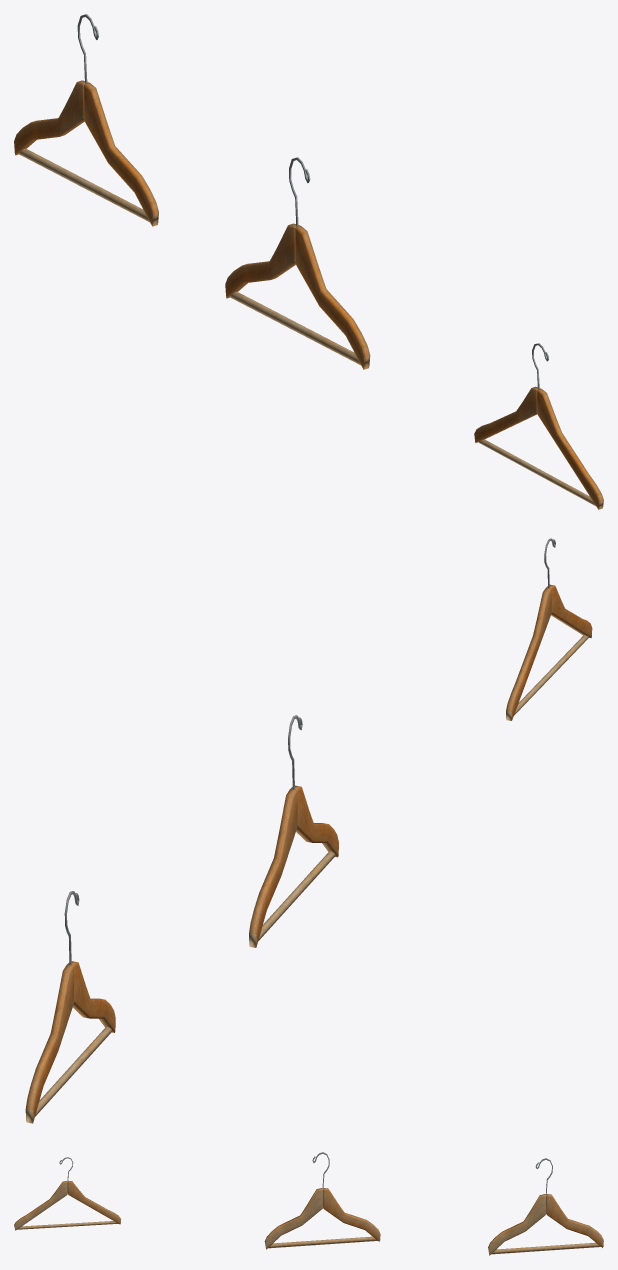
The model's file is wood hanger.fbx.
3 renders of one model, top to bottom at view 1: azimuth 30°, elevation 25°; view 2: azimuth 150°, elevation 25°; view 3: azimuth 270°, elevation 25°, orthographic. The views are drawn at different scales.
Parts seen in each view (by area): view 1: Line003, Line004, WoodHanger; view 2: Line003, Line004, WoodHanger; view 3: Line003, Line004, WoodHanger.
Boxes of the visible parts, box(x1,y1,x2,y2) form: Line003: box(225, 157, 370, 369); Line004: box(14, 14, 158, 226); WoodHanger: box(474, 343, 603, 509); Line003: box(249, 715, 338, 947); Line004: box(25, 891, 115, 1123); WoodHanger: box(506, 538, 592, 720); Line003: box(264, 1152, 380, 1249); Line004: box(488, 1158, 603, 1255); WoodHanger: box(14, 1157, 120, 1230).
Bounding box in the file's own units: 16.73 × 81.74 × 441.
Materials: 1 (1 with a texture image).
